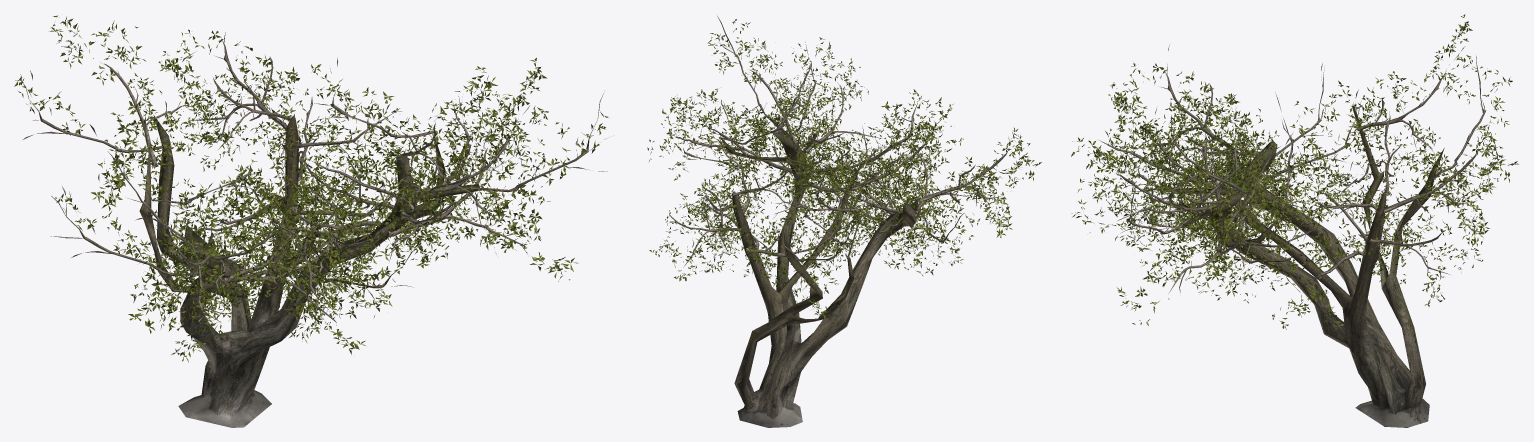
File: island_tree_02.glb
3 views of the same model, side by side, from view 1: azimuth 30°, elevation 25°; view 2: azimuth 150°, elevation 25°; view 3: azimuth 270°, elevation 25° (orthographic). The views are drawn at different scales.
Parts seen in each view (by area): view 1: island_tree_02_LOD0; view 2: island_tree_02_LOD0; view 3: island_tree_02_LOD0.
Part boxes in pixels (box(x1,y1,x2,y2)): island_tree_02_LOD0: box(14, 15, 608, 427); island_tree_02_LOD0: box(647, 16, 1041, 427); island_tree_02_LOD0: box(1071, 14, 1518, 427).
Size of the model in its own units: 4.05 by 3.4 by 4.04.
3 materials, 3 textured.
